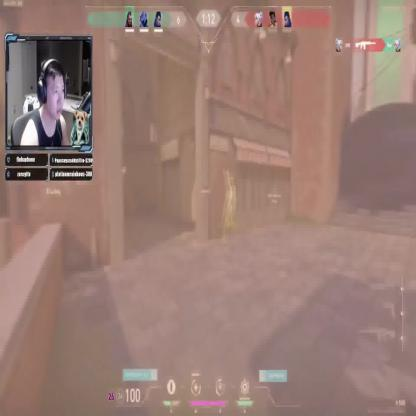enemy: (221, 171, 237, 245)
enemy_head: (227, 175, 235, 187)
